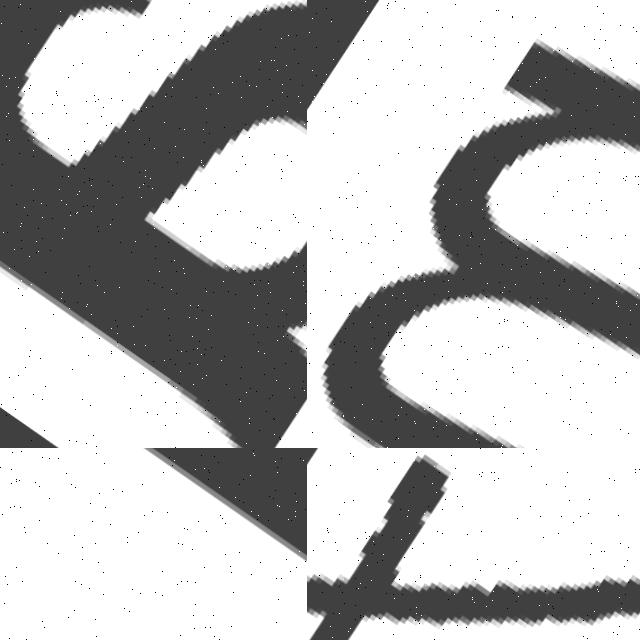7: (307, 448, 640, 640)
A: (0, 0, 307, 448)
M: (307, 0, 640, 448)
R: (0, 448, 307, 640)
